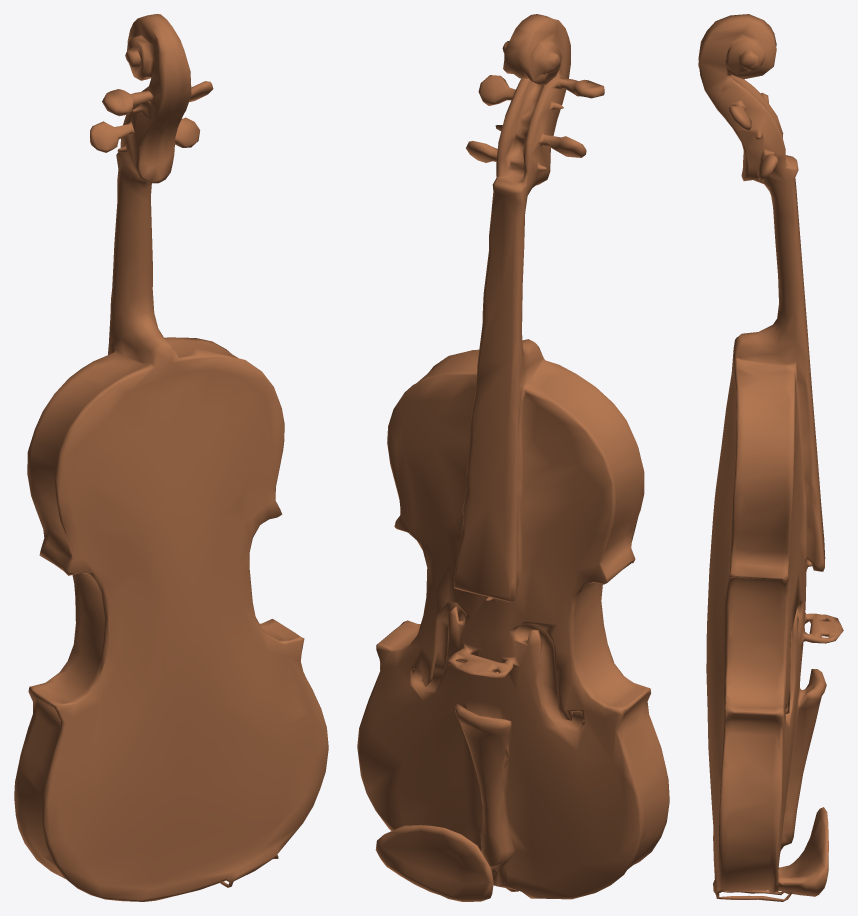
The model's file is museum-violin.glb.
3 views of the same model, side by side, from view 1: azimuth 30°, elevation 25°; view 2: azimuth 150°, elevation 25°; view 3: azimuth 270°, elevation 25° (orthographic). The views are drawn at different scales.
Visible parts, largest first — view 1: CC0 museum violin; view 2: CC0 museum violin; view 3: CC0 museum violin.
Part boxes in pixels (box(x1,y1,x2,y2)): CC0 museum violin: box(14, 14, 328, 901); CC0 museum violin: box(357, 14, 669, 901); CC0 museum violin: box(698, 14, 843, 901).
Bounding box in the file's own units: 0.3391 × 1 × 0.1544.
